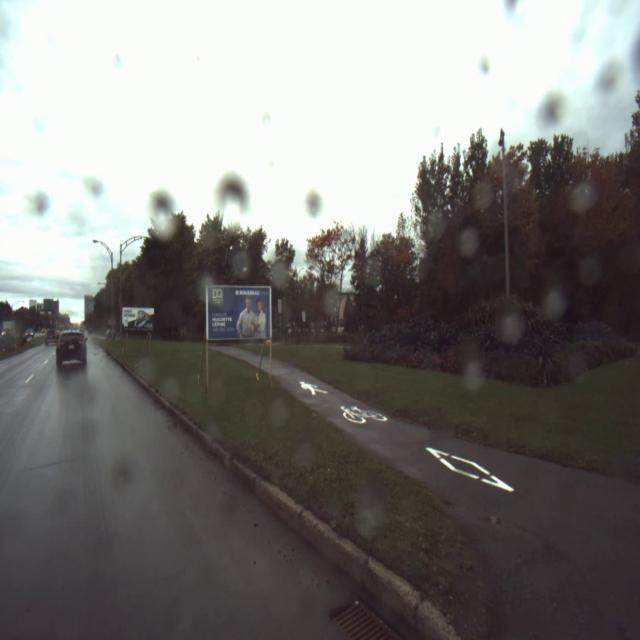car: (55, 328, 89, 369), (44, 327, 58, 346), (24, 327, 35, 339)
